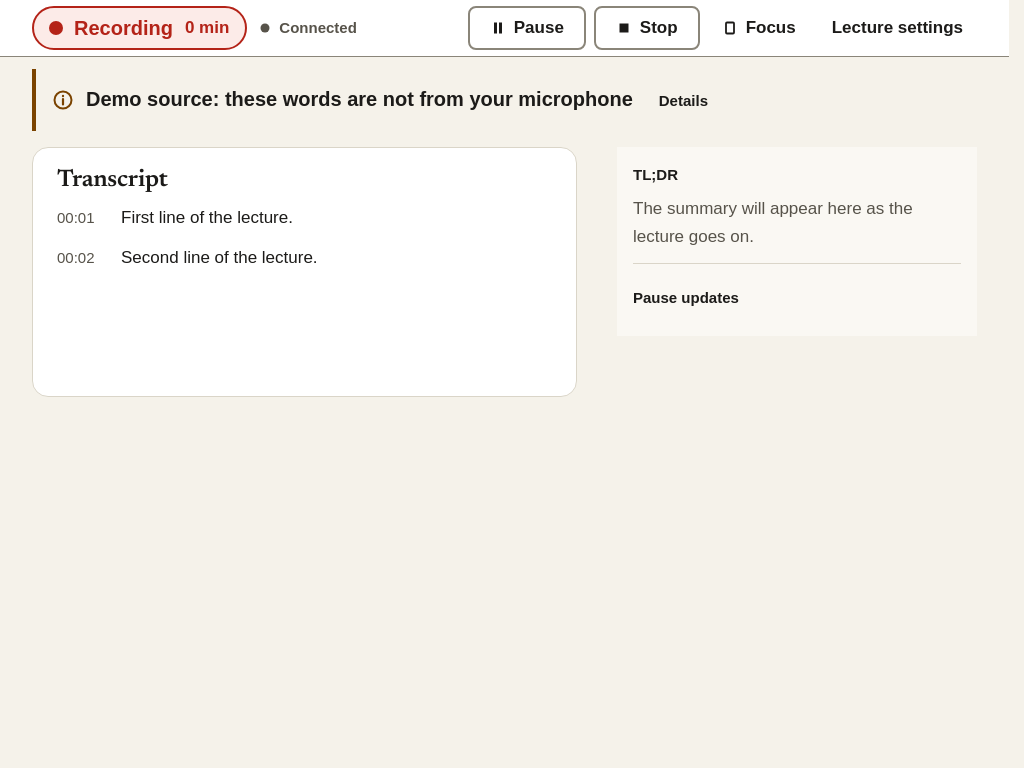
Test: criterion 3: the student's own Stop opens the move notice › no timer: the notice is still open, unchanged, after ten minutes
Click the button "Stop" at (647, 28), box left=594, top=6, right=700, bottom=50
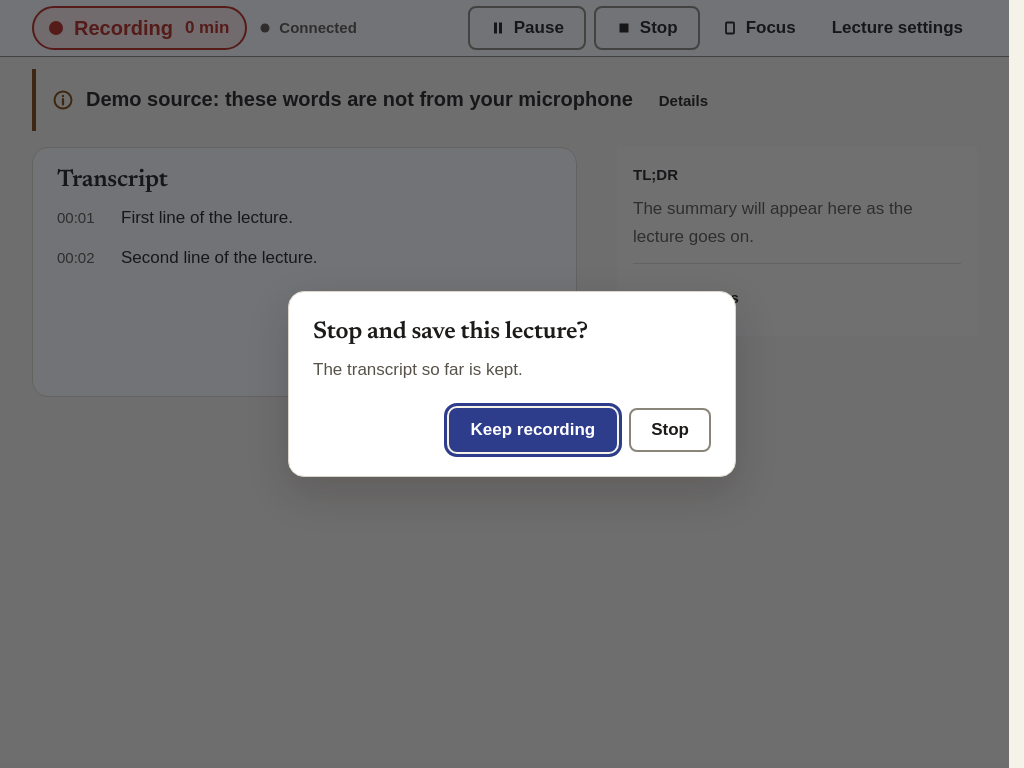
Click the button "Stop" at (670, 430), box left=629, top=408, right=711, bottom=452
Wait 600000 ms
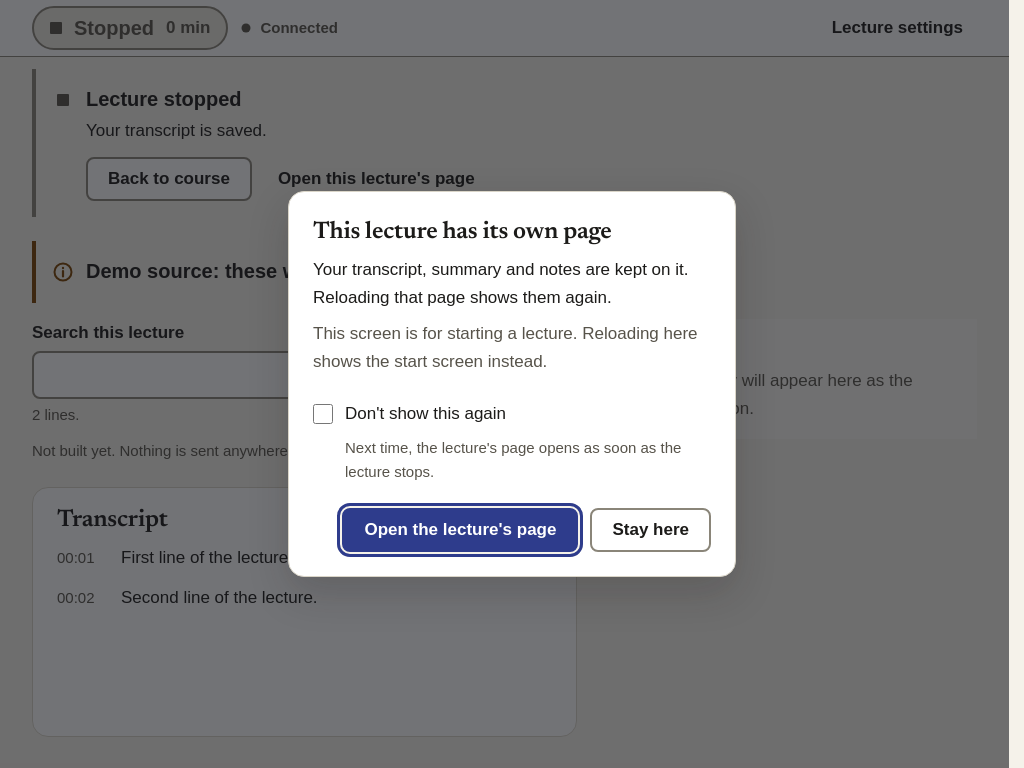
Now the dialog "This lecture has its own page" is shown, box left=288, top=191, right=736, bottom=577
